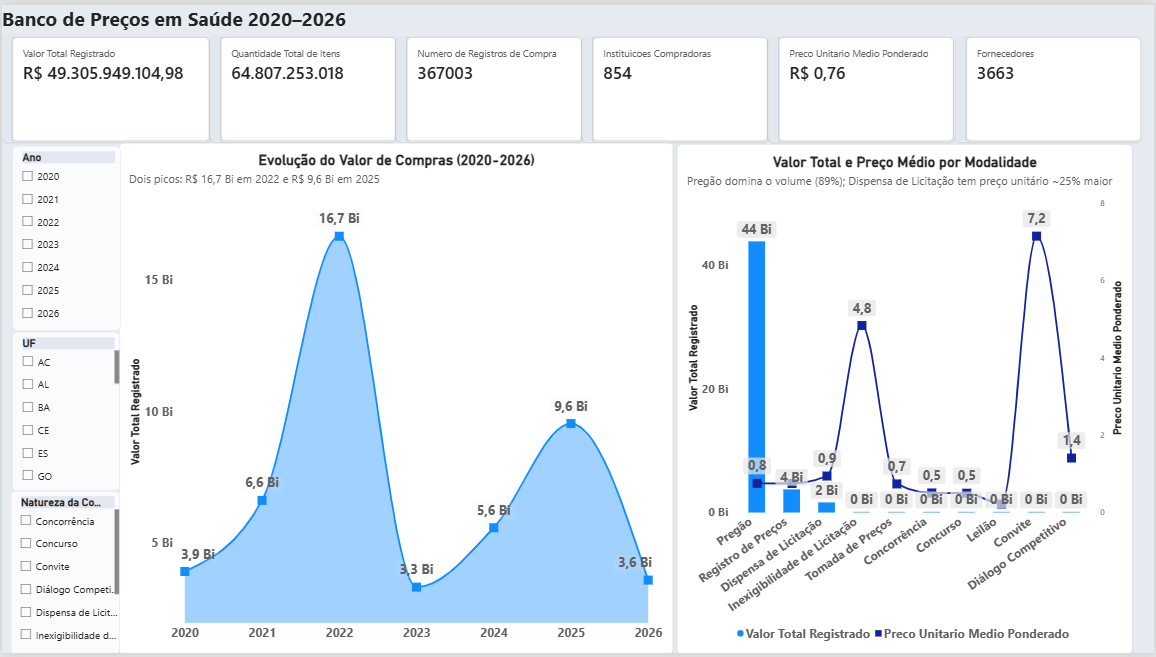

What the dashboard file says about the page in this screenshot:
{"tool":"powerbi","page":{"name":"Visão Executiva","canvas":[1920,1080],"ordinal":0},"visuals":[{"type":"cardVisual","fields":{"Data":["BPS.Valor Total Registrado"]},"box":[0,51.7,347.8,176.1],"z":0},{"type":"cardVisual","fields":{"Data":["BPS.Quantidade Total de Itens"]},"box":[347.8,51.7,310.9,176.1],"z":1000},{"type":"cardVisual","fields":{"Data":["BPS.Numero de Registros de Compra"]},"box":[656.5,51.7,310.9,176.1],"z":2000},{"type":"cardVisual","fields":{"Data":["BPS.Instituicoes Compradoras"]},"box":[967.4,51.7,310.9,176.1],"z":3000},{"type":"cardVisual","fields":{"Data":["BPS.Fornecedores"]},"box":[1589.1,51.7,310.9,176.1],"z":4000},{"type":"cardVisual","fields":{"Data":["BPS.Preco Unitario Medio Ponderado"]},"box":[1278.3,51.7,310.9,176.1],"z":5000},{"type":"areaChart","title":"Evolução do Valor de Compras (2020-2026)","fields":{"Category":["BPS.ano_compra"],"Y":["BPS.Valor Total Registrado"]},"box":[195.6,229,923.3,851.8],"z":6000},{"type":"slicer","fields":{"Values":["BPS.ano_compra"]},"box":[16.7,236.2,180,307.5],"z":7000},{"type":"slicer","fields":{"Values":["BPS.sg_uf"]},"box":[16.7,544,178.9,264.8],"z":8000},{"type":"slicer","fields":{"Values":["BPS.modalidade"]},"box":[14.3,808.8,181.3,272],"z":9000},{"type":"textbox","box":[0,0,1280,50],"z":10000},{"type":"lineClusteredColumnComboChart","title":"Valor Total e Preço Médio por Modalidade","fields":{"Category":["BPS.modalidade"],"Y":["BPS.Valor Total Registrado"],"Y2":["BPS.Preco Unitario Medio Ponderado"]},"box":[1123.8,231.4,758.7,849.4],"z":11000}]}

Visuals, with their boxes in screenshot pixels (x1, y1, x2, y2), scaled from the page's 1920x1080 canvas onto the 1156x657 screenshot:
cardVisual - BPS.Valor Total Registrado: crop(0, 31, 209, 139)
cardVisual - BPS.Quantidade Total de Itens: crop(209, 31, 397, 139)
cardVisual - BPS.Numero de Registros de Compra: crop(395, 31, 582, 139)
cardVisual - BPS.Instituicoes Compradoras: crop(582, 31, 770, 139)
cardVisual - BPS.Fornecedores: crop(957, 31, 1144, 139)
cardVisual - BPS.Preco Unitario Medio Ponderado: crop(770, 31, 957, 139)
"Evolução do Valor de Compras (2020-2026)" areaChart: crop(118, 139, 674, 656)
slicer - BPS.ano_compra: crop(10, 144, 118, 331)
slicer - BPS.sg_uf: crop(10, 331, 118, 492)
slicer - BPS.modalidade: crop(9, 492, 118, 656)
textbox: crop(0, 0, 771, 30)
"Valor Total e Preço Médio por Modalidade" lineClusteredColumnComboChart: crop(677, 141, 1133, 656)
